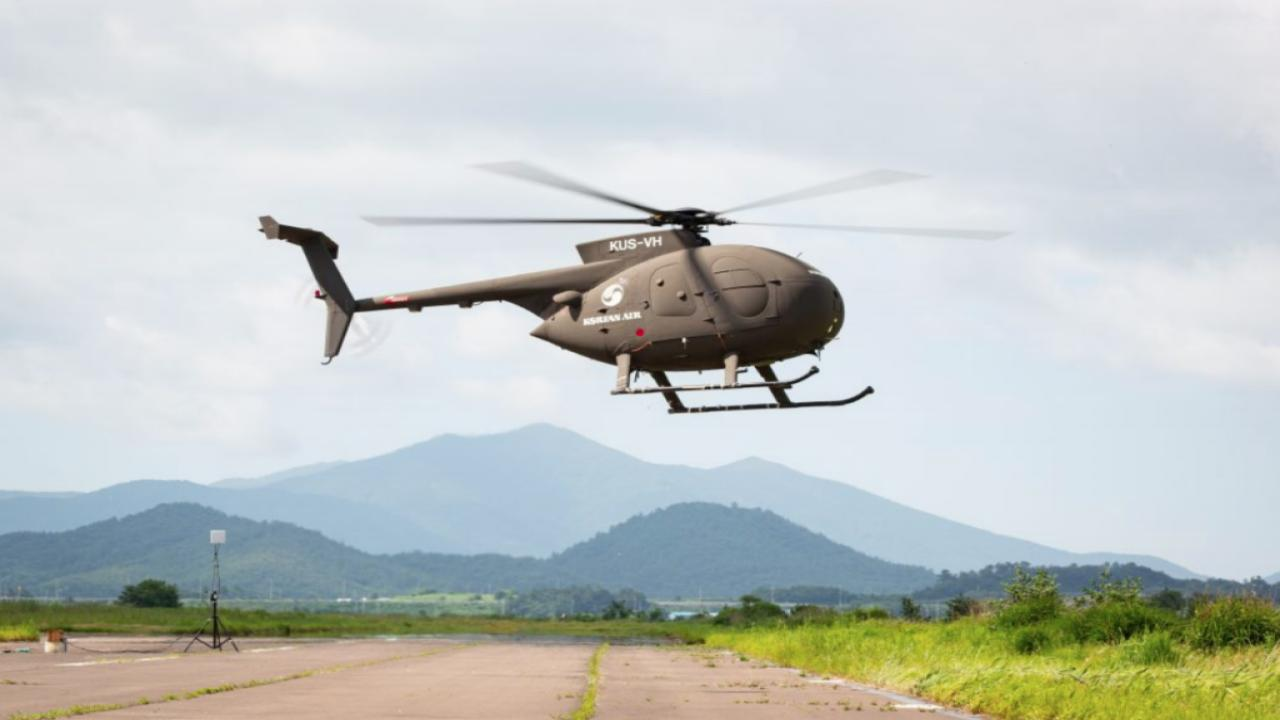Helicopter: (249, 145, 1023, 422)
